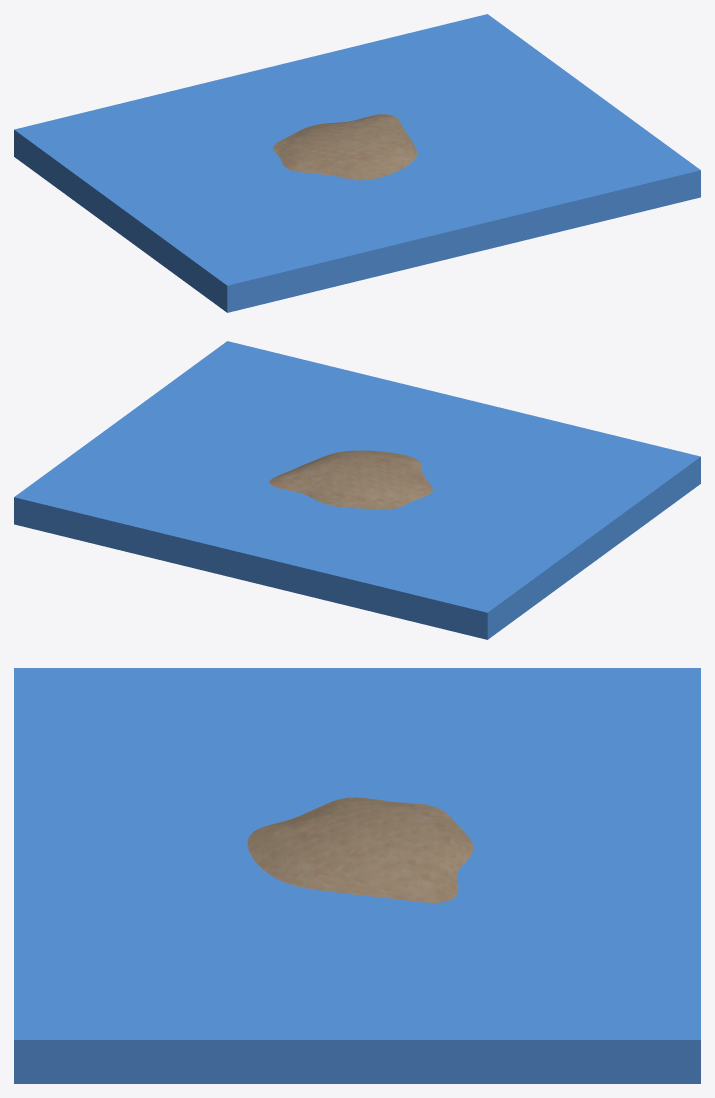
The model's file is MassiveFlatIsland.glb.
3 renders of one model, top to bottom at view 1: azimuth 30°, elevation 25°; view 2: azimuth 150°, elevation 25°; view 3: azimuth 270°, elevation 25°, orthographic. The views are drawn at different scales.
Visible parts, largest first — view 1: WaterZone, Ground-col; view 2: WaterZone, Ground-col; view 3: WaterZone, Ground-col.
Boxes of the visible parts, x1=… form: WaterZone: x1=14, y1=14, x2=700, y2=312; Ground-col: x1=273, y1=114, x2=417, y2=180; WaterZone: x1=14, y1=341, x2=700, y2=639; Ground-col: x1=269, y1=450, x2=432, y2=509; WaterZone: x1=14, y1=668, x2=700, y2=1083; Ground-col: x1=247, y1=797, x2=473, y2=902.
Bounding box in the file's own units: 9842 × 1227 × 7681.
Materials: 2 (1 with a texture image).
